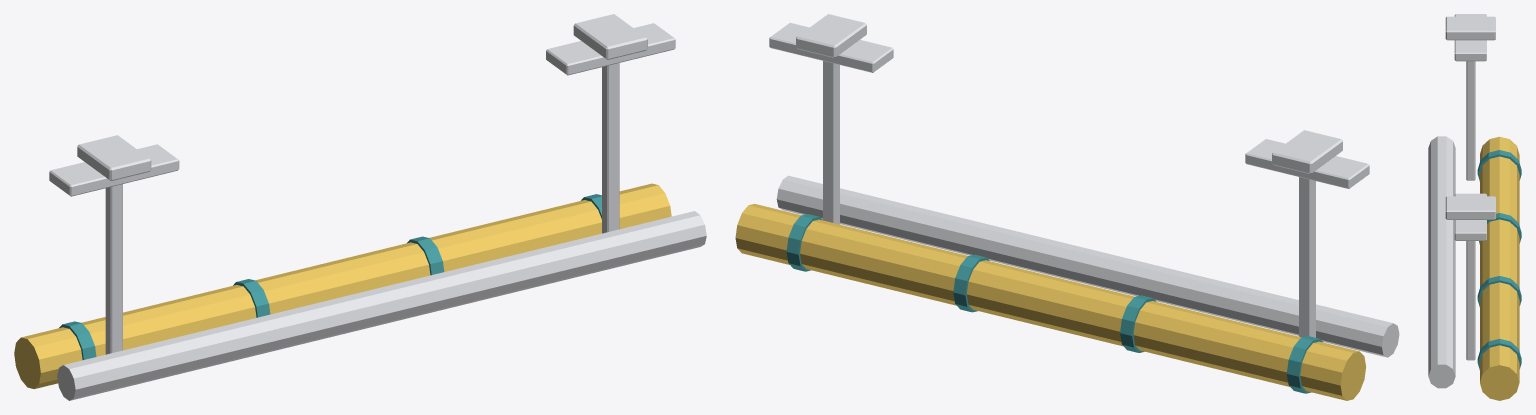
File: dry-cleaners-and-alterations-shop-steam-pipe-run-modul-327ac173__34966.glb
The picture shows the model from 3 angles, left to right: view 1: azimuth 30°, elevation 25°; view 2: azimuth 150°, elevation 25°; view 3: azimuth 270°, elevation 25°; orthographic projection. The views are drawn at different scales.
Parts seen in each view (by area): view 1: steam-pipe-run-module; view 2: steam-pipe-run-module; view 3: steam-pipe-run-module.
Part boxes in pixels (x1=…): steam-pipe-run-module: x1=14, y1=14, x2=706, y2=400; steam-pipe-run-module: x1=735, y1=14, x2=1399, y2=400; steam-pipe-run-module: x1=1428, y1=14, x2=1521, y2=400.
Size of the model in its own units: 1.5 by 0.537 by 0.259.
